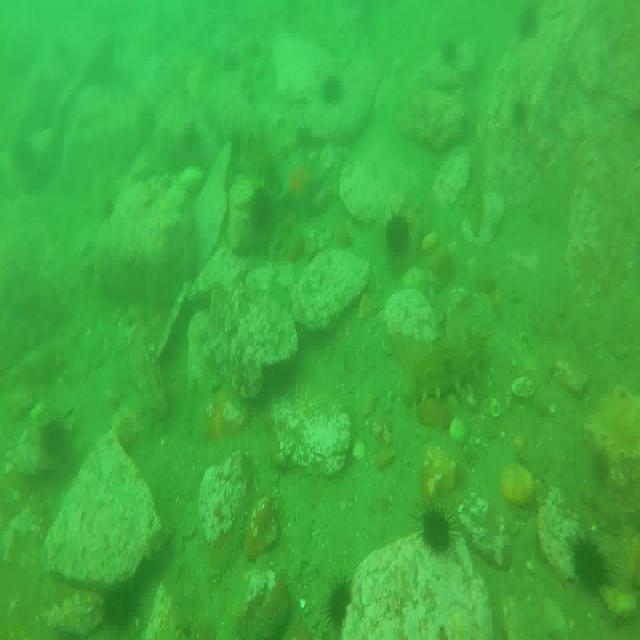echinus: (570, 532, 612, 596), (417, 504, 457, 554), (324, 574, 351, 633), (386, 212, 414, 256), (42, 409, 68, 456), (252, 185, 276, 229), (322, 73, 346, 107)
holothurian: (406, 335, 485, 408)
starfish: (274, 148, 321, 212)
